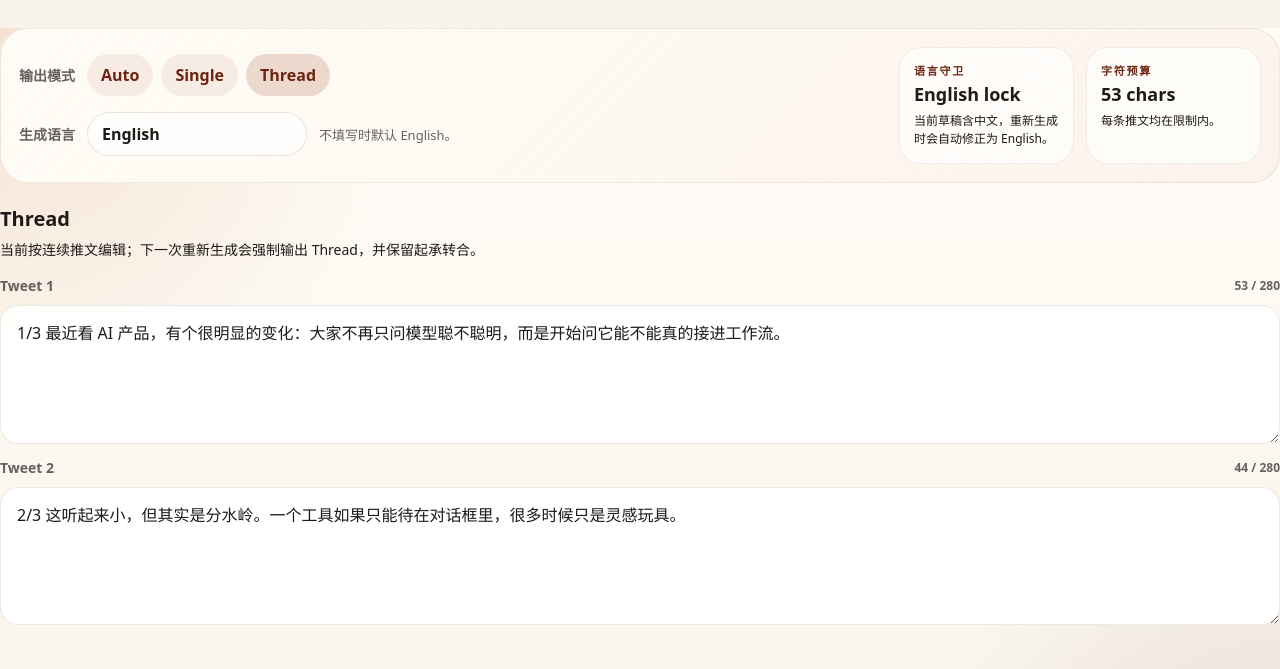
Test case: TwitterEditor › makes output mode changes visible in the editor shape
Check: the heading "Thread" is shown, box [0,205,70,232]
Check: the number of text boxes labelled "Tweet 1 53 / 280" is 2, box [0,305,1279,444]; [0,486,1279,625]
Click the button "Single": (200,76) [161,54,238,96]
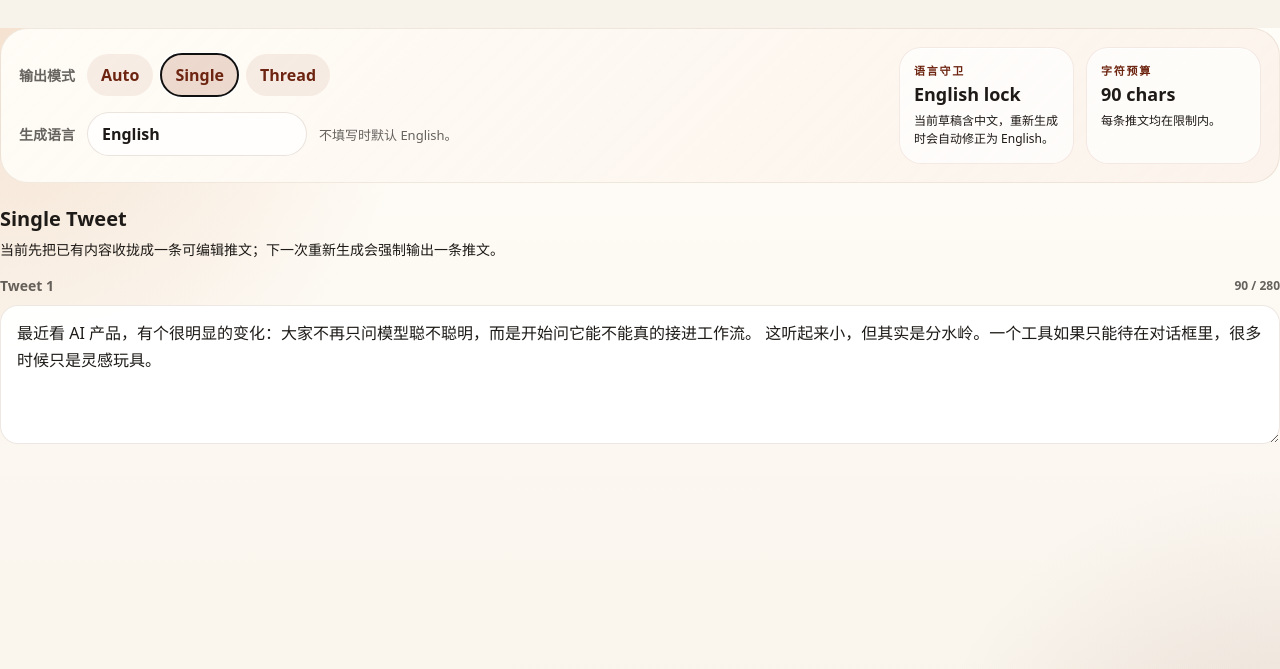
Check: the heading "Single Tweet" is shown, box [0,205,127,232]
Check: the number of text boxes labelled "Tweet 1 90 / 280" is 1, box [0,305,1279,444]
Check: the text "当前先把已有内容收拢成一条可编辑推文；下一次重新生成会强制输出一条推文。" is shown, box [0,240,504,259]
Click the button "Thread": (288,76) [246,54,330,96]
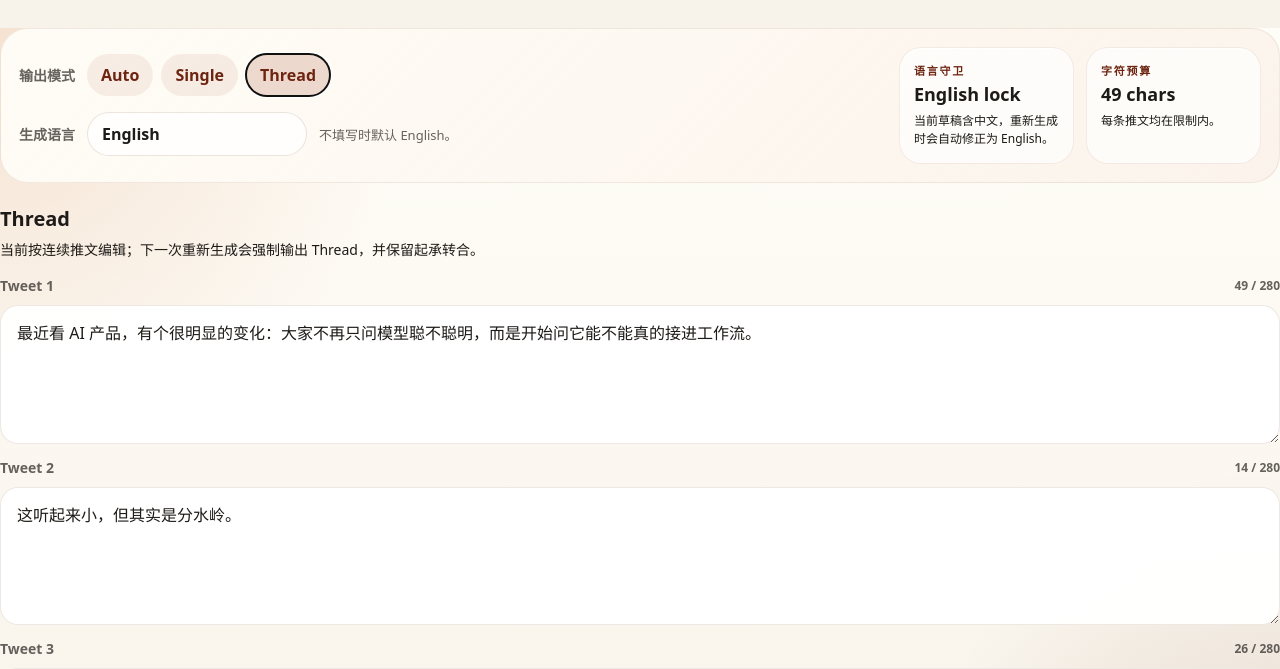
Check: the heading "Thread" is shown, box [0,205,70,232]
Check: the text "当前按连续推文编辑；下一次重新生成会强制输出 Thread，并保留起承转合。" is shown, box [0,240,484,259]
